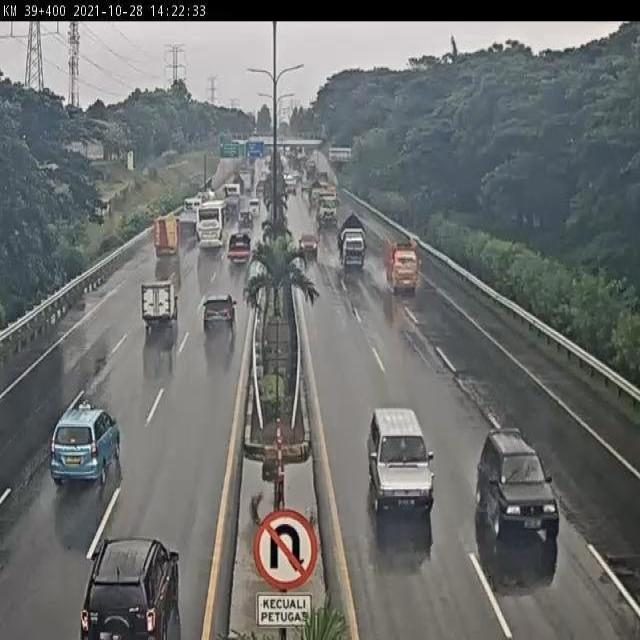Bus: (195, 200, 226, 250)
Car: (79, 536, 180, 638), (476, 426, 558, 539), (367, 406, 436, 514), (50, 400, 120, 486), (202, 294, 238, 332), (298, 233, 318, 260), (238, 206, 253, 229), (248, 197, 260, 218)
Truck: (385, 237, 421, 297), (141, 280, 177, 329), (338, 214, 367, 274), (153, 214, 179, 257), (180, 195, 202, 236), (227, 232, 253, 265), (316, 192, 338, 226), (223, 183, 241, 217), (309, 179, 329, 205), (239, 170, 253, 193)
